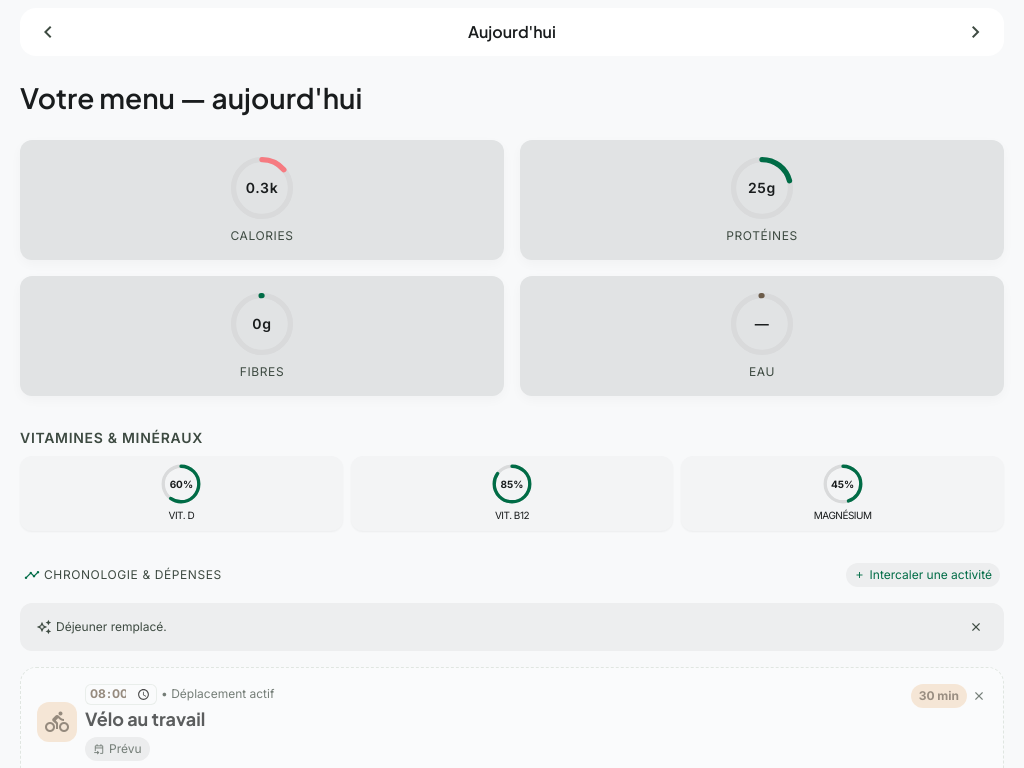
Scenario: DashboardScreen › masque le résultat de la révision sur demande
Click the button named "Masquer le résultat de la révision": (976, 627) [964,611,988,643]
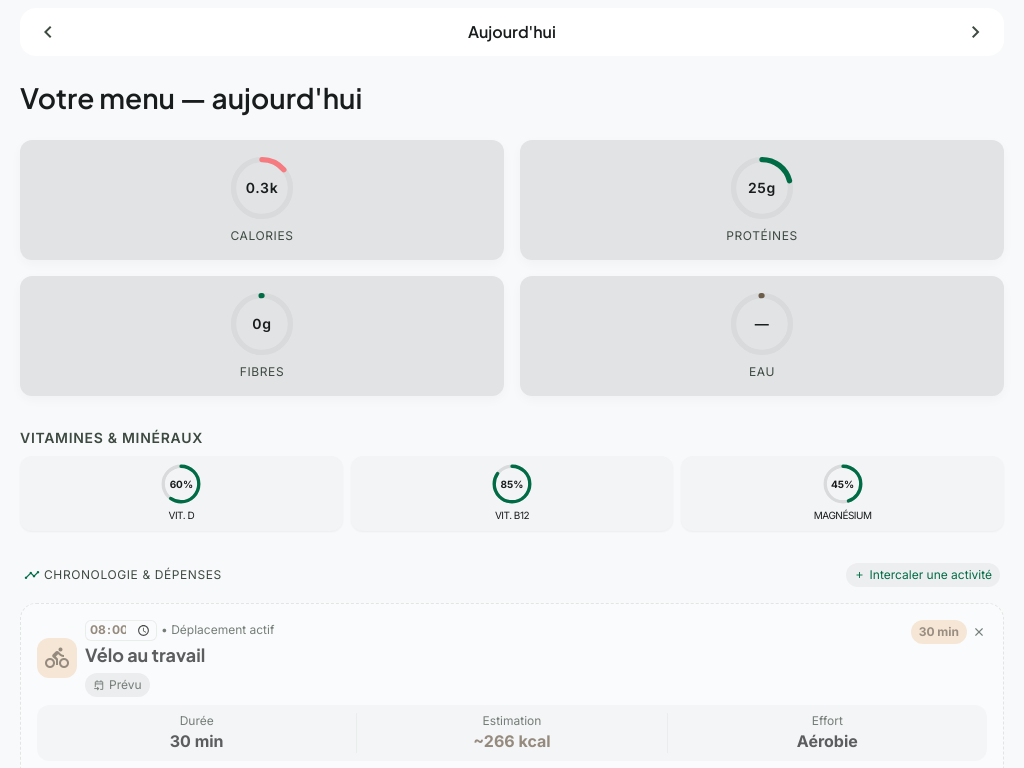
Now the text "Déjeuner remplacé." is gone
